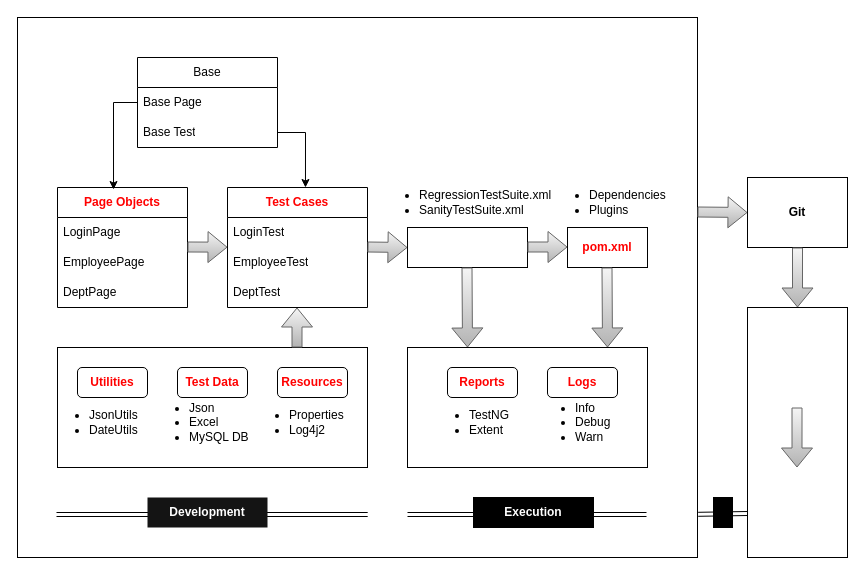
Some shapes in this 865 by 576 pixel diagram are drawn without their labels. The centre of each missing label's shape, as x and y in pixels:
"CI" belongs at point (722, 512).
"GitHub Azure DevOps" belongs at point (797, 432).
"Testng.xml" belongs at point (467, 247).
